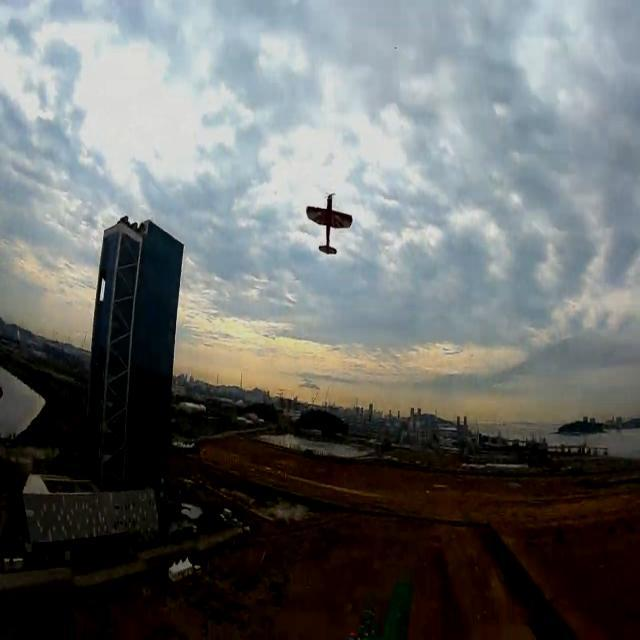iha: (297, 222, 348, 225)
